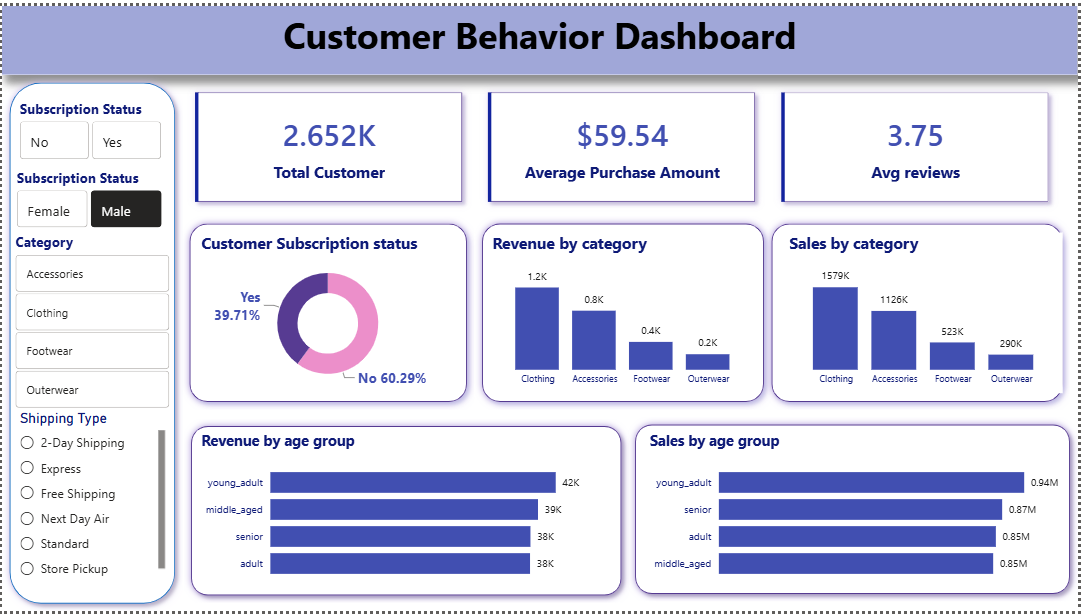

This screenshot's page, from the dashboard's own definition file:
{"tool":"powerbi","page":{"name":"Overview","canvas":[1280,720],"ordinal":0},"visuals":[{"type":"shape","box":[214.3,250,348.2,230.4],"z":0},{"type":"shape","box":[907.1,250,364.3,230.4],"z":1000},{"type":"donutChart","title":" Customer Subscription status","fields":{"Category":["customer_analysis.subscription_status"],"Y":["CountNonNull(customer_analysis.customer_id)"]},"box":[232.1,269.6,310.7,191.1],"z":2000},{"type":"cardVisual","fields":{"Data":["customer_analysis.Total Customer","customer_analysis.Average Purchase Amount","customer_analysis.Avg reviews"]},"box":[212.5,85.7,1050,164.3],"z":3000},{"type":"shape","box":[0,0,1280,81.7],"z":4000},{"type":"textbox","box":[0,0,1280.4,82.1],"z":5000},{"type":"shape","box":[562.5,250,353.6,230.4],"z":6000},{"type":"clusteredColumnChart","title":"Revenue by category","fields":{"Category":["customer_analysis.category"],"Y":["CountNonNull(customer_analysis.purchase_amount)"]},"box":[578.6,269.6,321.4,191.1],"z":7000},{"type":"shape","box":[0,81.7,215,638.3],"z":8000},{"type":"clusteredColumnChart","title":"Sales by category","fields":{"Category":["customer_analysis.category"],"Y":["Sum(customer_analysis.customer_id)"]},"box":[924.6,268.8,330.3,191.1],"z":9000},{"type":"advancedSlicerVisual","title":"Subscription Status","fields":{"Values":["customer_analysis.subscription_status"]},"box":[16.7,110,178.3,76.7],"z":10000},{"type":"advancedSlicerVisual","title":"Subscription Status","fields":{"Values":["customer_analysis.gender"]},"box":[11.7,193.3,183.3,76],"z":12000},{"type":"advancedSlicerVisual","title":"Category","fields":{"Values":["customer_analysis.category"]},"box":[16.7,270,183.3,210],"z":13000},{"type":"listSlicer","title":"Shipping Type","fields":{"Values":["customer_analysis.shipping_type"]},"box":[16.7,480,183.3,206.7],"z":14000},{"type":"shape","box":[216.1,491.1,530.4,219.6],"z":15000},{"type":"clusteredBarChart","title":"Revenue by age group","fields":{"Y":["Sum(customer_analysis.purchase_amount)"],"Category":["customer_analysis.age_group"]},"box":[232.1,505.4,496.4,189.3],"z":16000},{"type":"shape","box":[744.6,489.3,535.7,219.6],"z":17000},{"type":"clusteredBarChart","title":"Sales by age group","fields":{"Y":["Sum(customer_analysis.customer_id)"],"Category":["customer_analysis.age_group"]},"box":[766.1,505.4,496.4,189.3],"z":18000}]}

Visuals, with their boxes in screenshot pixels (x1, y1, x2, y2), scaled from the page's 1280x720 canvas onto the 1083x616 screenshot:
shape: {"left": 181, "top": 214, "right": 476, "bottom": 411}
shape: {"left": 767, "top": 214, "right": 1076, "bottom": 411}
" Customer Subscription status" donutChart: {"left": 196, "top": 231, "right": 459, "bottom": 394}
cardVisual - customer_analysis.Total Customer x customer_analysis.Average Purchase Amount: {"left": 180, "top": 73, "right": 1068, "bottom": 214}
shape: {"left": 0, "top": 0, "right": 1082, "bottom": 70}
textbox: {"left": 0, "top": 0, "right": 1082, "bottom": 70}
shape: {"left": 476, "top": 214, "right": 775, "bottom": 411}
"Revenue by category" clusteredColumnChart: {"left": 490, "top": 231, "right": 761, "bottom": 394}
shape: {"left": 0, "top": 70, "right": 182, "bottom": 615}
"Sales by category" clusteredColumnChart: {"left": 782, "top": 230, "right": 1062, "bottom": 393}
"Subscription Status" advancedSlicerVisual: {"left": 14, "top": 94, "right": 165, "bottom": 160}
"Subscription Status" advancedSlicerVisual: {"left": 10, "top": 165, "right": 165, "bottom": 230}
"Category" advancedSlicerVisual: {"left": 14, "top": 231, "right": 169, "bottom": 411}
"Shipping Type" listSlicer: {"left": 14, "top": 411, "right": 169, "bottom": 588}
shape: {"left": 183, "top": 420, "right": 632, "bottom": 608}
"Revenue by age group" clusteredBarChart: {"left": 196, "top": 432, "right": 616, "bottom": 594}
shape: {"left": 630, "top": 419, "right": 1082, "bottom": 607}
"Sales by age group" clusteredBarChart: {"left": 648, "top": 432, "right": 1068, "bottom": 594}
